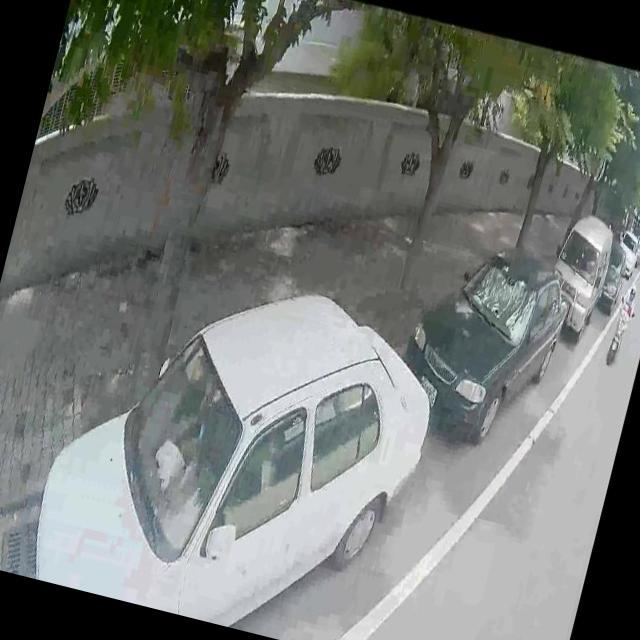person: (617, 285, 638, 321)
